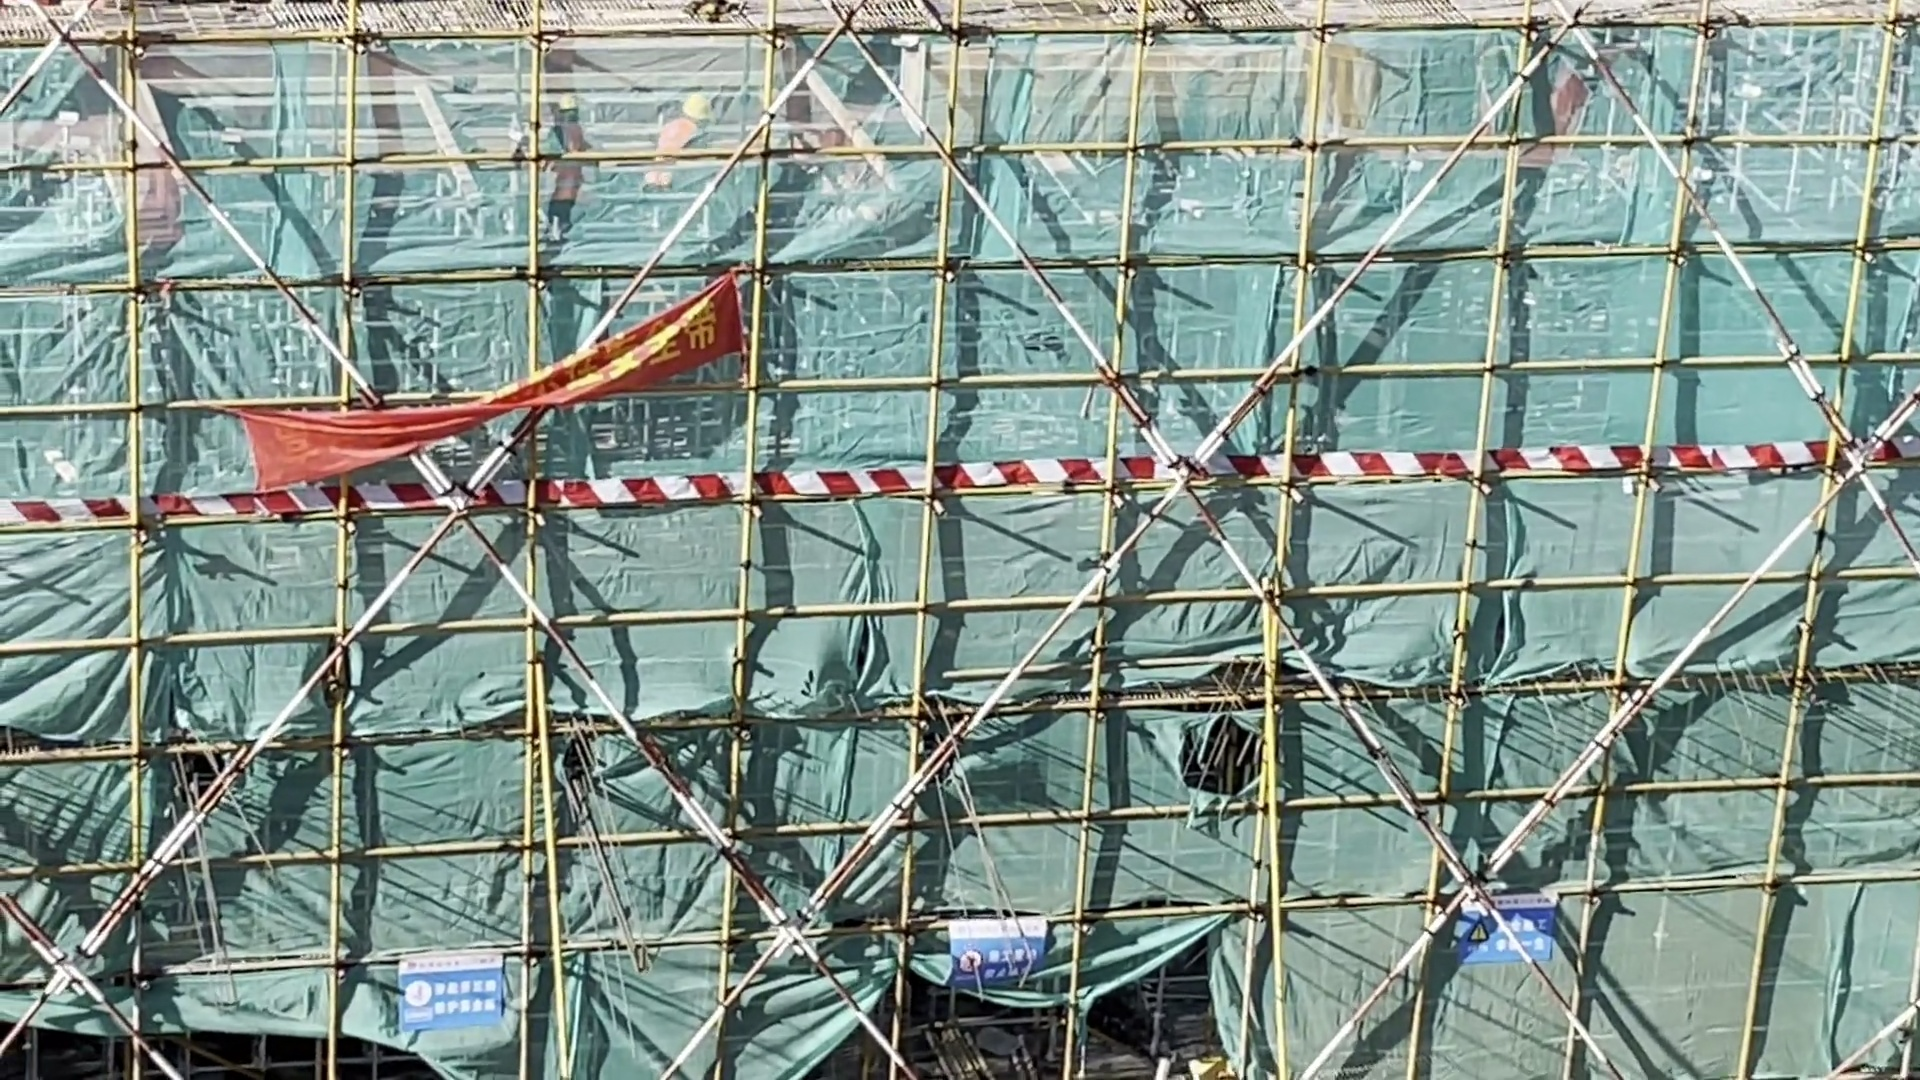slogan: (222, 222, 799, 513), (385, 932, 550, 1048), (1441, 880, 1577, 972), (940, 909, 1054, 1004)
